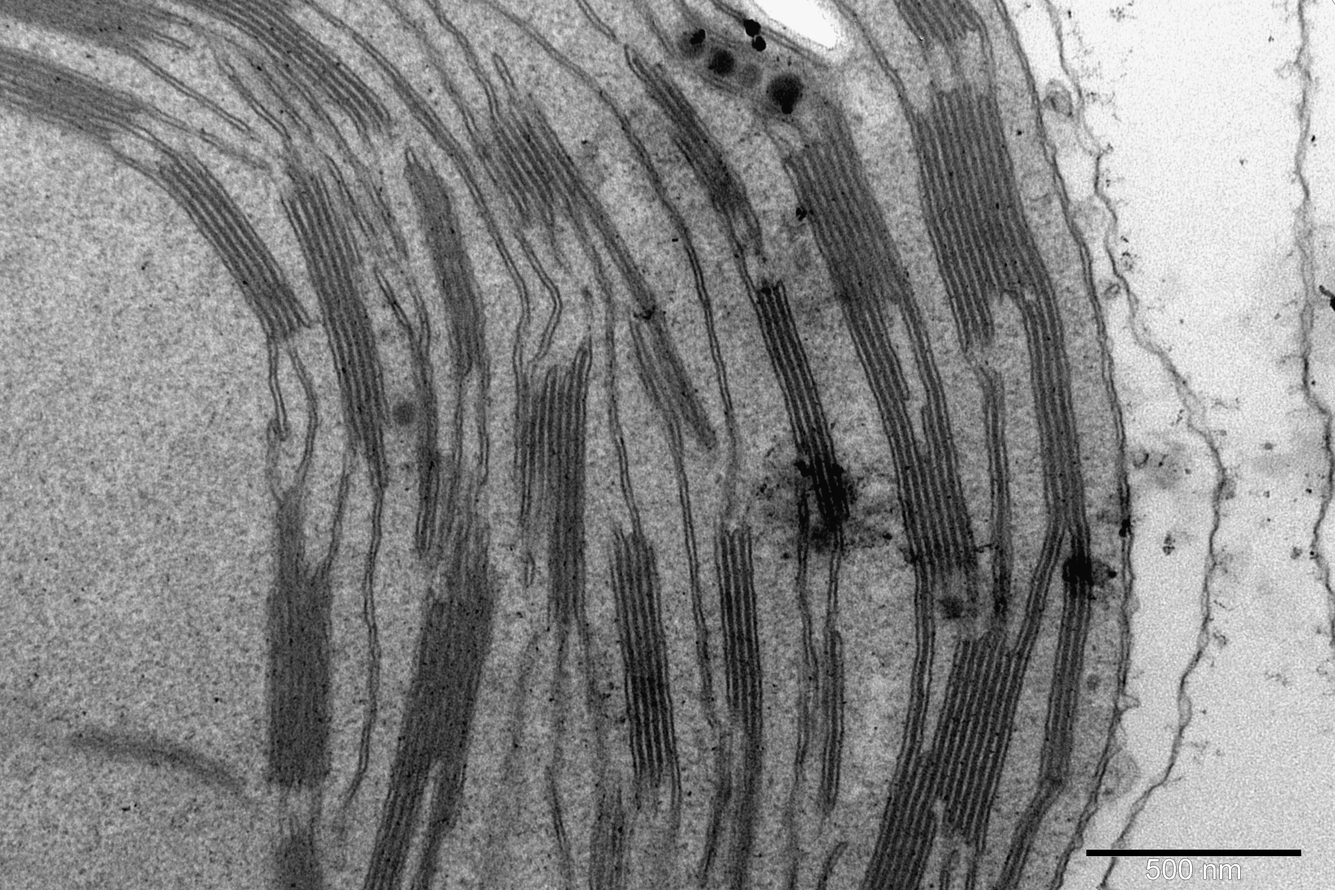granum: (360, 516, 512, 890), (774, 95, 919, 448), (902, 78, 1057, 358), (144, 141, 318, 346), (277, 160, 395, 461), (888, 623, 1034, 854), (168, 0, 395, 140), (744, 277, 854, 533), (258, 483, 337, 792), (508, 360, 593, 628), (398, 160, 494, 379), (635, 58, 758, 226), (600, 530, 683, 775), (464, 91, 601, 236), (1013, 293, 1092, 532), (889, 400, 981, 594), (0, 40, 146, 151), (1034, 555, 1095, 791), (709, 524, 765, 712), (623, 328, 711, 435), (0, 0, 162, 56), (854, 789, 941, 890), (585, 772, 637, 889), (889, 0, 990, 53), (267, 827, 327, 890)
